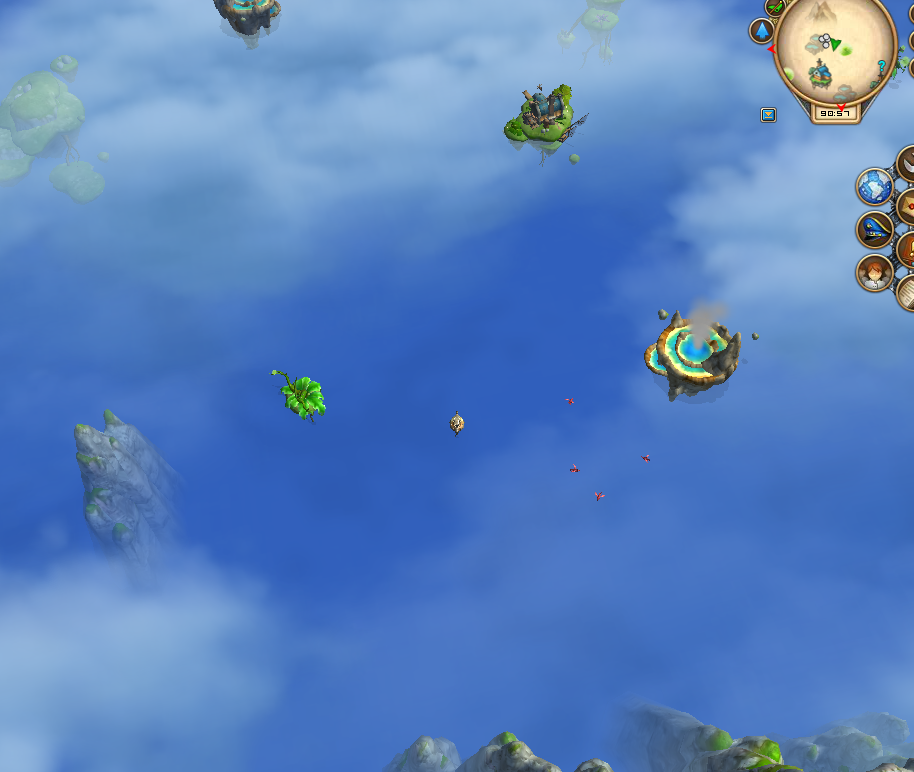dandelion-empty: (266, 357, 333, 431)
